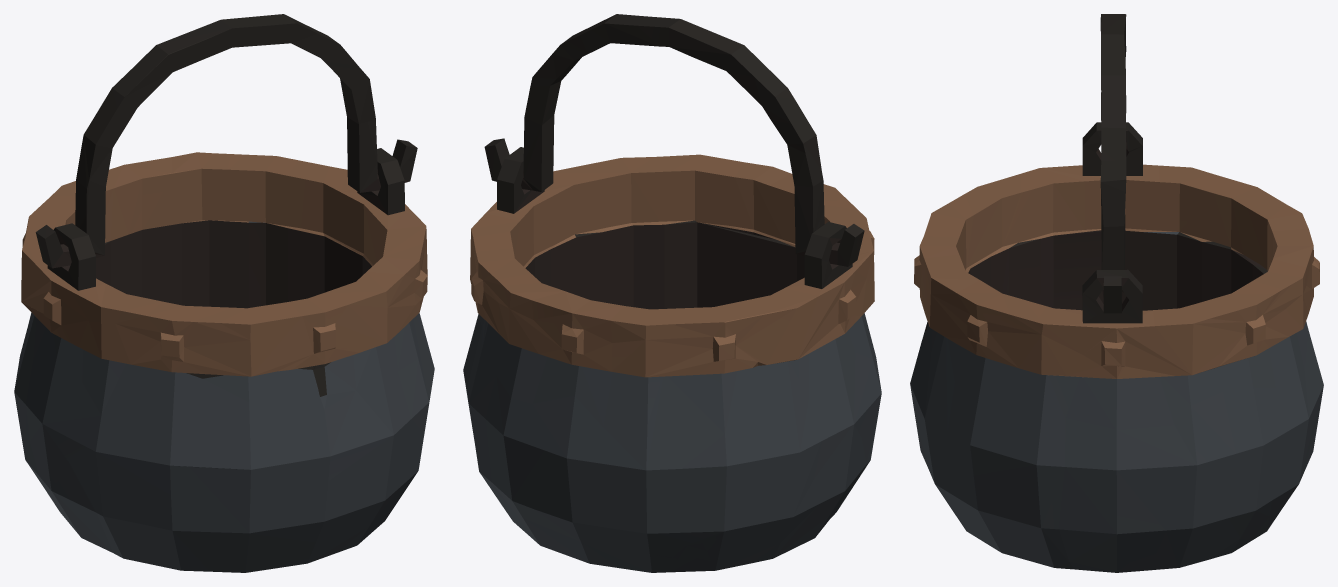
Rendered from mdvl_interiors_cauldron_01.glb.
3 renders of one model, left to right at view 1: azimuth 30°, elevation 25°; view 2: azimuth 150°, elevation 25°; view 3: azimuth 270°, elevation 25°, orthographic. The views are drawn at different scales.
Parts seen in each view (by area): view 1: mdvl_interiors_cauldron_01; view 2: mdvl_interiors_cauldron_01; view 3: mdvl_interiors_cauldron_01.
Part boxes in pixels (x1,y1,x2,y2): mdvl_interiors_cauldron_01: [14, 14, 434, 572]; mdvl_interiors_cauldron_01: [463, 14, 881, 572]; mdvl_interiors_cauldron_01: [910, 14, 1323, 572].
Bounding box in the file's own units: 0.5548 × 0.6838 × 0.5453.
Materials: 1 (1 with a texture image).
